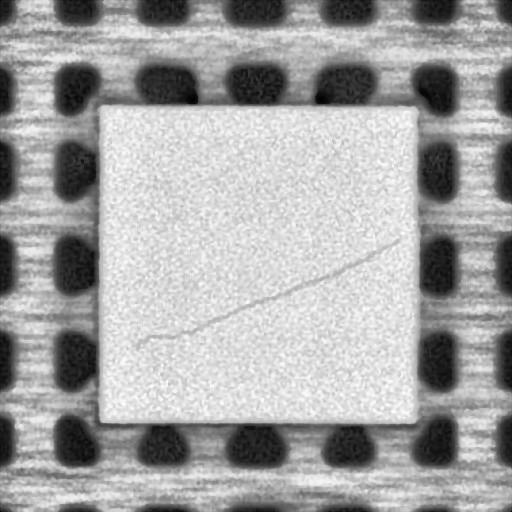DIE_CRACK: (140, 234, 406, 340)
